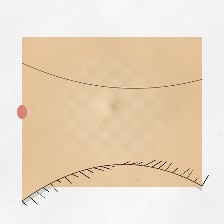pinguecula_lesion: (143, 91, 179, 119)
